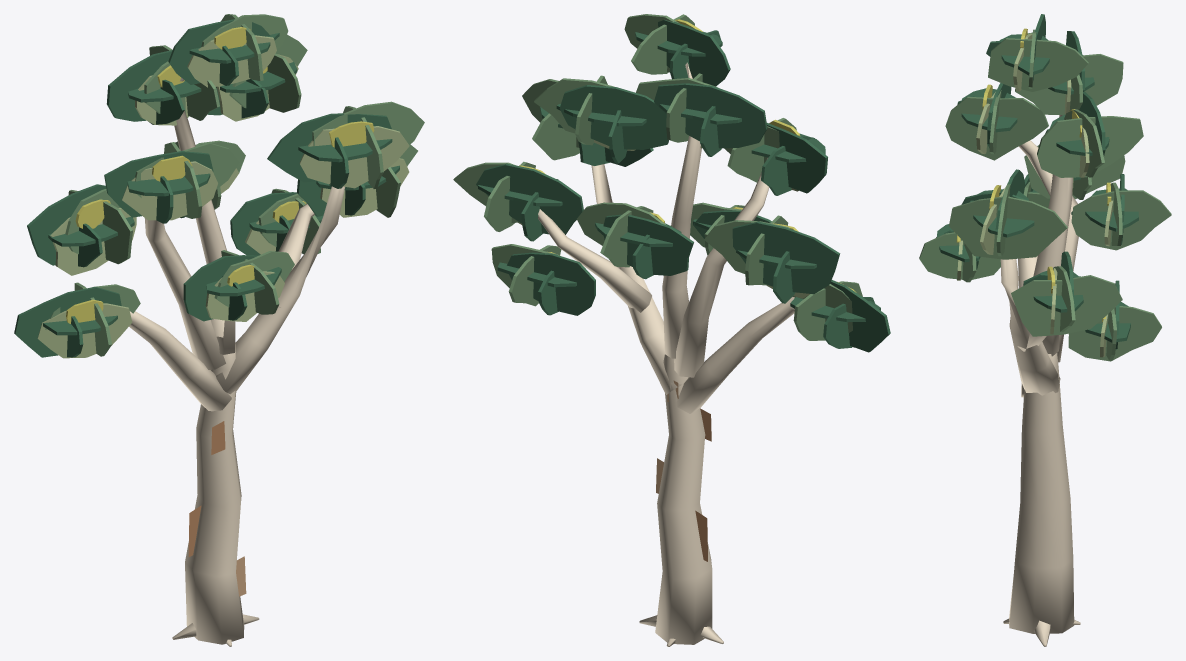
File: TREE_EUCALYPTUS_001_v004_LOD_GAMEPLAY.glb
3 renders of one model, left to right at view 1: azimuth 30°, elevation 25°; view 2: azimuth 150°, elevation 25°; view 3: azimuth 270°, elevation 25°, orthographic.
Visible parts, largest first — view 1: TREE_EUCALYPTUS_001_GAMEPLAY_LAYERED_PAPERCUT_MASSES, TREE_EUCALYPTUS_001_GAMEPLAY_SCULPTURAL_LIMB_0, TREE_EUCALYPTUS_001_GAMEPLAY_SCULPTURAL_LIMB_4, TREE_EUCALYPTUS_001_GAMEPLAY_SCULPTURAL_LIMB_1, TREE_EUCALYPTUS_001_GAMEPLAY_SCULPTURAL_LIMB_2, TREE_EUCALYPTUS_001_GAMEPLAY_SCULPTURAL_LIMB_3, TREE_EUCALYPTUS_001_GAMEPLAY_GRAPHIC_BARK_BLOCKS, TREE_EUCALYPTUS_001_GAMEPLAY_SCULPTURAL_LIMB_5; view 2: TREE_EUCALYPTUS_001_GAMEPLAY_LAYERED_PAPERCUT_MASSES, TREE_EUCALYPTUS_001_GAMEPLAY_SCULPTURAL_LIMB_0, TREE_EUCALYPTUS_001_GAMEPLAY_SCULPTURAL_LIMB_2, TREE_EUCALYPTUS_001_GAMEPLAY_SCULPTURAL_LIMB_1, TREE_EUCALYPTUS_001_GAMEPLAY_SCULPTURAL_LIMB_3, TREE_EUCALYPTUS_001_GAMEPLAY_SCULPTURAL_LIMB_4, TREE_EUCALYPTUS_001_GAMEPLAY_SCULPTURAL_LIMB_5, TREE_EUCALYPTUS_001_GAMEPLAY_GRAPHIC_BARK_BLOCKS; view 3: TREE_EUCALYPTUS_001_GAMEPLAY_LAYERED_PAPERCUT_MASSES, TREE_EUCALYPTUS_001_GAMEPLAY_SCULPTURAL_LIMB_0, TREE_EUCALYPTUS_001_GAMEPLAY_SCULPTURAL_LIMB_4, TREE_EUCALYPTUS_001_GAMEPLAY_SCULPTURAL_LIMB_3, TREE_EUCALYPTUS_001_GAMEPLAY_SCULPTURAL_LIMB_2, TREE_EUCALYPTUS_001_GAMEPLAY_SCULPTURAL_LIMB_1.
Boxes of the visible parts, left/top/right/bottom form: TREE_EUCALYPTUS_001_GAMEPLAY_LAYERED_PAPERCUT_MASSES: left=14, top=14, right=424, bottom=358; TREE_EUCALYPTUS_001_GAMEPLAY_SCULPTURAL_LIMB_0: left=185, top=319, right=244, bottom=644; TREE_EUCALYPTUS_001_GAMEPLAY_SCULPTURAL_LIMB_4: left=216, top=186, right=345, bottom=394; TREE_EUCALYPTUS_001_GAMEPLAY_SCULPTURAL_LIMB_1: left=129, top=311, right=231, bottom=411; TREE_EUCALYPTUS_001_GAMEPLAY_SCULPTURAL_LIMB_2: left=144, top=218, right=225, bottom=369; TREE_EUCALYPTUS_001_GAMEPLAY_SCULPTURAL_LIMB_3: left=174, top=77, right=235, bottom=354; TREE_EUCALYPTUS_001_GAMEPLAY_GRAPHIC_BARK_BLOCKS: left=188, top=421, right=246, bottom=596; TREE_EUCALYPTUS_001_GAMEPLAY_SCULPTURAL_LIMB_5: left=278, top=203, right=314, bottom=307; TREE_EUCALYPTUS_001_GAMEPLAY_LAYERED_PAPERCUT_MASSES: left=453, top=14, right=890, bottom=352; TREE_EUCALYPTUS_001_GAMEPLAY_SCULPTURAL_LIMB_0: left=655, top=354, right=712, bottom=644; TREE_EUCALYPTUS_001_GAMEPLAY_SCULPTURAL_LIMB_2: left=674, top=157, right=769, bottom=377; TREE_EUCALYPTUS_001_GAMEPLAY_SCULPTURAL_LIMB_1: left=676, top=297, right=794, bottom=413; TREE_EUCALYPTUS_001_GAMEPLAY_SCULPTURAL_LIMB_3: left=662, top=62, right=701, bottom=358; TREE_EUCALYPTUS_001_GAMEPLAY_SCULPTURAL_LIMB_4: left=591, top=164, right=687, bottom=394; TREE_EUCALYPTUS_001_GAMEPLAY_SCULPTURAL_LIMB_5: left=538, top=209, right=651, bottom=312; TREE_EUCALYPTUS_001_GAMEPLAY_GRAPHIC_BARK_BLOCKS: left=656, top=380, right=711, bottom=561; TREE_EUCALYPTUS_001_GAMEPLAY_LAYERED_PAPERCUT_MASSES: left=919, top=14, right=1171, bottom=361; TREE_EUCALYPTUS_001_GAMEPLAY_SCULPTURAL_LIMB_0: left=1009, top=353, right=1074, bottom=633; TREE_EUCALYPTUS_001_GAMEPLAY_SCULPTURAL_LIMB_4: left=1000, top=259, right=1060, bottom=395; TREE_EUCALYPTUS_001_GAMEPLAY_SCULPTURAL_LIMB_3: left=1033, top=115, right=1072, bottom=356; TREE_EUCALYPTUS_001_GAMEPLAY_SCULPTURAL_LIMB_2: left=1019, top=140, right=1078, bottom=362; TREE_EUCALYPTUS_001_GAMEPLAY_SCULPTURAL_LIMB_1: left=1018, top=256, right=1037, bottom=397.
Bounding box in the file's own units: 10.14 × 14.1 × 5.34.
